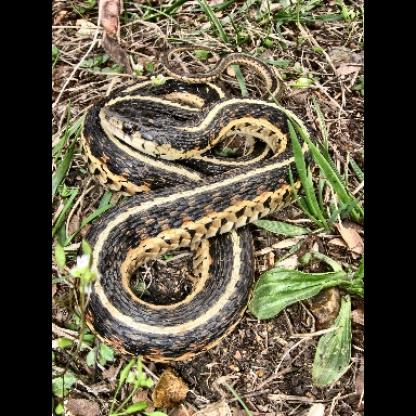Snake: (79, 52, 315, 367)
